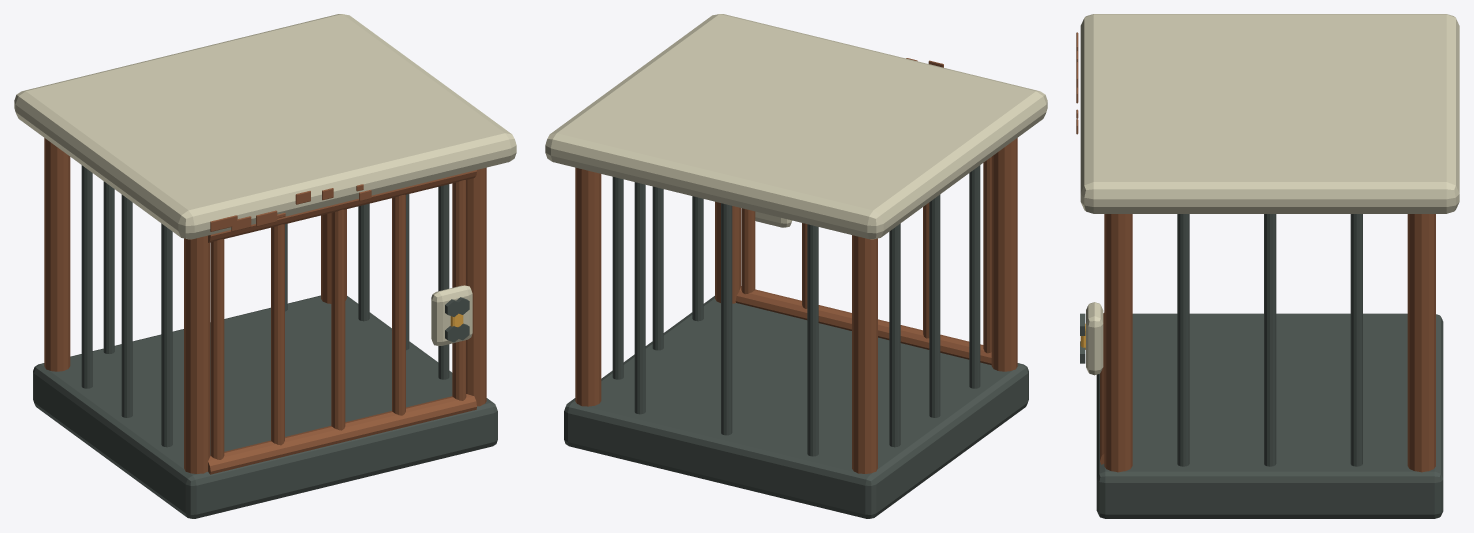
Rendered from Rescue_Enclosure_Closed.glb.
3 renders of one model, left to right at view 1: azimuth 30°, elevation 25°; view 2: azimuth 150°, elevation 25°; view 3: azimuth 270°, elevation 25°, orthographic. The views are drawn at different scales.
Parts seen in each view (by area): view 1: Canopy, Rescue base, Frame post, Frame post.001, Door rail, Frame post.002, Door bar.002, Door bar, Door bar.003, Door bar.001, Side bar, Side bar.002 (+9 smaller); view 2: Canopy, Rescue base, Frame post.003, Frame post.001, Frame post, Door rail, Back bar, Back bar.002, Back bar.001, Side bar, Side bar.002, Side bar.001 (+7 smaller); view 3: Canopy, Rescue base, Frame post.002, Frame post.003, Side bar.003, Side bar.004, Side bar.005, Door lock, Door rail.
Boxes of the visible parts, left/top/right/bottom form: Canopy: left=14, top=14, right=516, bottom=239; Rescue base: left=33, top=295, right=497, bottom=518; Frame post: left=184, top=235, right=209, bottom=473; Frame post.001: left=44, top=138, right=70, bottom=371; Door rail: left=208, top=394, right=476, bottom=474; Frame post.002: left=466, top=167, right=486, bottom=406; Door bar.002: left=331, top=209, right=345, bottom=430; Door bar: left=210, top=239, right=224, bottom=459; Door bar.003: left=392, top=194, right=405, bottom=415; Door bar.001: left=271, top=224, right=284, bottom=445; Side bar: left=161, top=223, right=172, bottom=447; Side bar.002: left=81, top=165, right=92, bottom=388; Canopy: left=545, top=14, right=1047, bottom=239; Rescue base: left=564, top=296, right=1028, bottom=518; Frame post.003: left=575, top=167, right=601, bottom=406; Frame post.001: left=852, top=235, right=877, bottom=473; Frame post: left=991, top=138, right=1017, bottom=371; Door rail: left=735, top=286, right=991, bottom=364; Back bar: left=807, top=224, right=818, bottom=456; Back bar.002: left=634, top=182, right=645, bottom=414; Back bar.001: left=721, top=203, right=732, bottom=435; Side bar: left=969, top=165, right=980, bottom=388; Side bar.002: left=889, top=223, right=900, bottom=447; Side bar.001: left=929, top=194, right=940, bottom=417; Canopy: left=1080, top=14, right=1459, bottom=213; Rescue base: left=1096, top=313, right=1443, bottom=518; Frame post.002: left=1104, top=214, right=1132, bottom=472; Frame post.003: left=1407, top=214, right=1435, bottom=472; Side bar.003: left=1177, top=214, right=1189, bottom=466; Side bar.004: left=1264, top=214, right=1276, bottom=466; Side bar.005: left=1350, top=214, right=1362, bottom=466; Door lock: left=1086, top=302, right=1103, bottom=375; Door rail: left=1100, top=313, right=1104, bottom=464.
Size of the model in its own units: 1.95 by 1.74 by 1.77.
